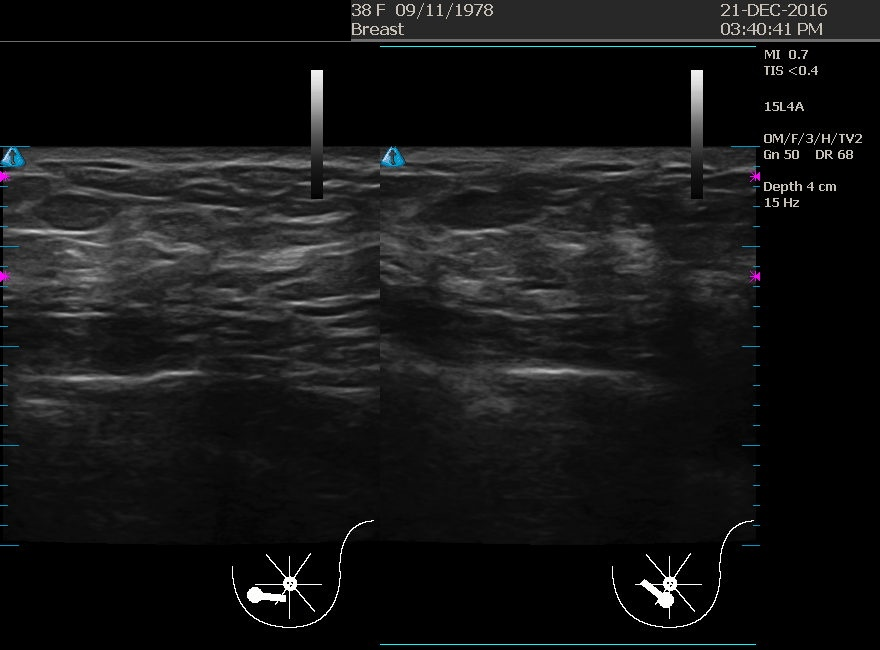Benign: (21, 176, 221, 376), (387, 171, 587, 371)
